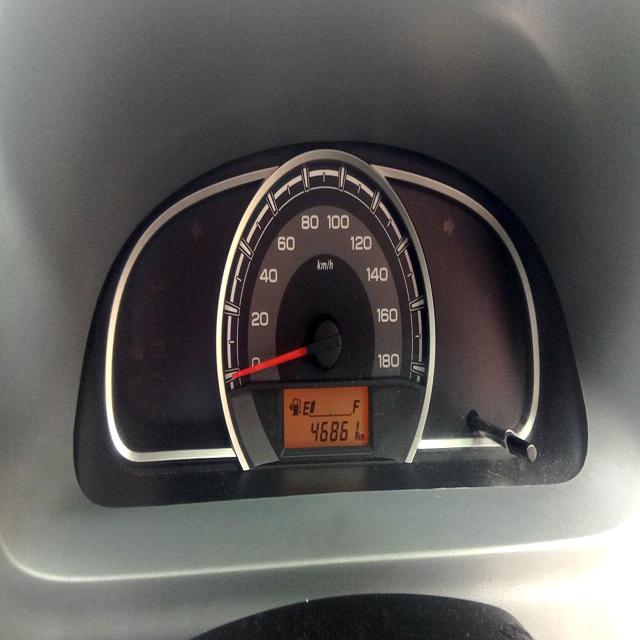odometer: (309, 417, 359, 445)
